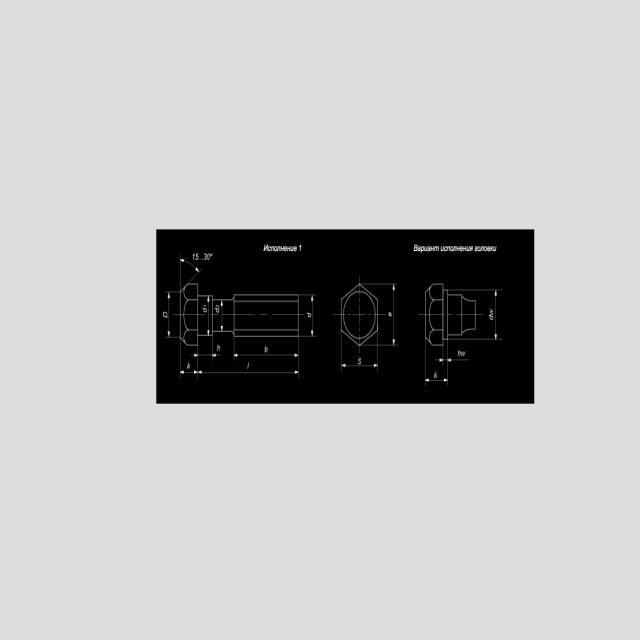marking_line: (200, 370, 298, 376), (235, 353, 299, 358), (392, 285, 396, 346), (167, 293, 172, 338), (220, 301, 225, 331), (342, 364, 378, 368), (311, 296, 314, 336), (207, 296, 210, 335), (426, 378, 449, 383), (180, 369, 197, 375), (448, 358, 469, 362), (190, 353, 198, 358), (213, 352, 220, 357), (436, 358, 443, 362)
numeric: (203, 251, 212, 263), (192, 253, 199, 261)
